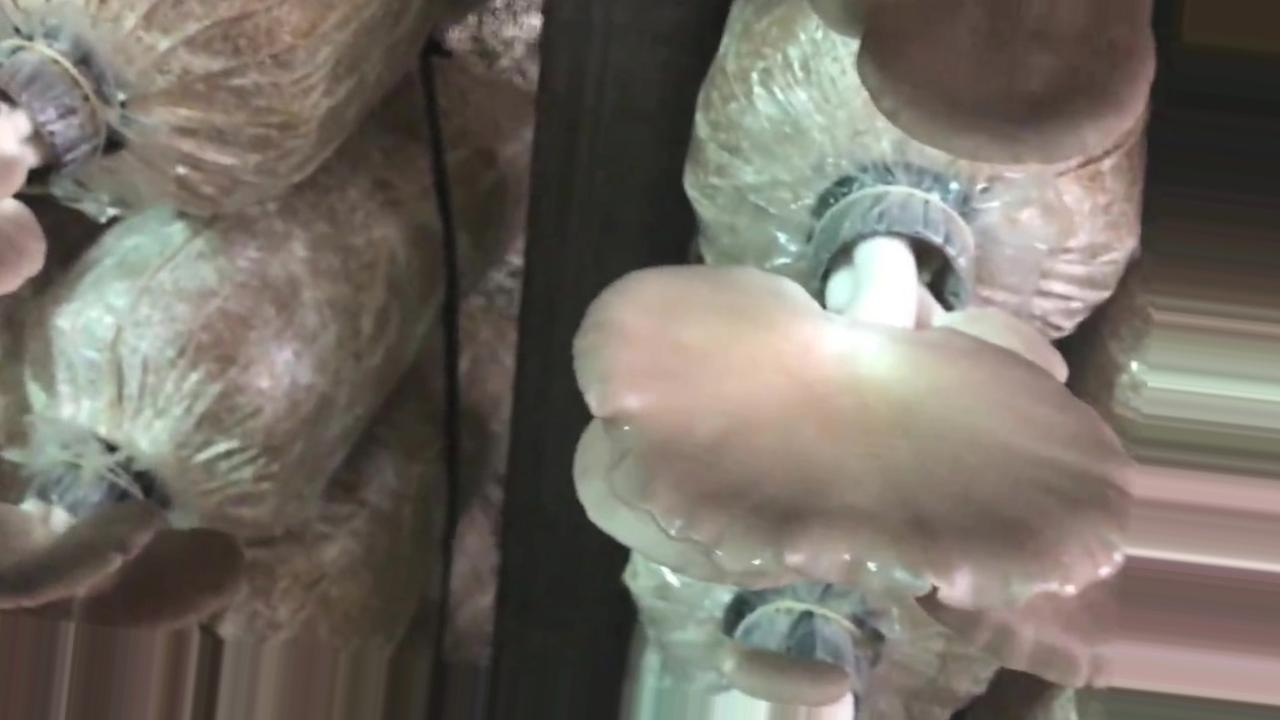nam: (568, 166, 1131, 607), (810, 1, 1160, 171), (1, 463, 253, 628), (1, 25, 116, 293)
